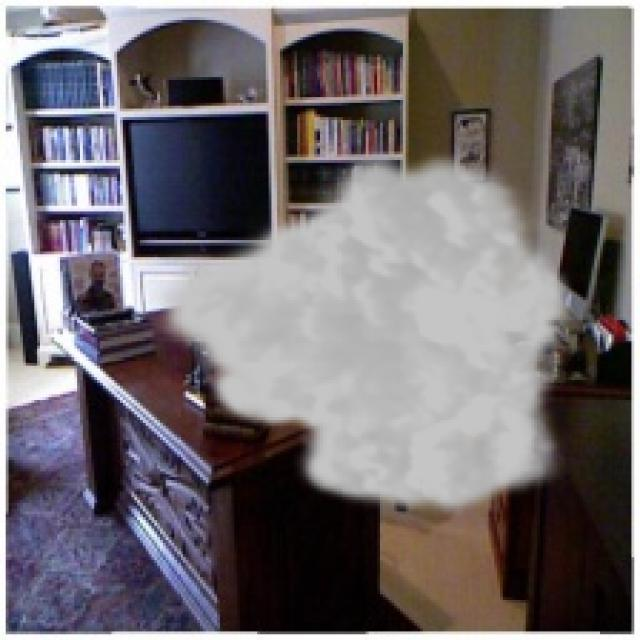smoke: (149, 143, 574, 520)
